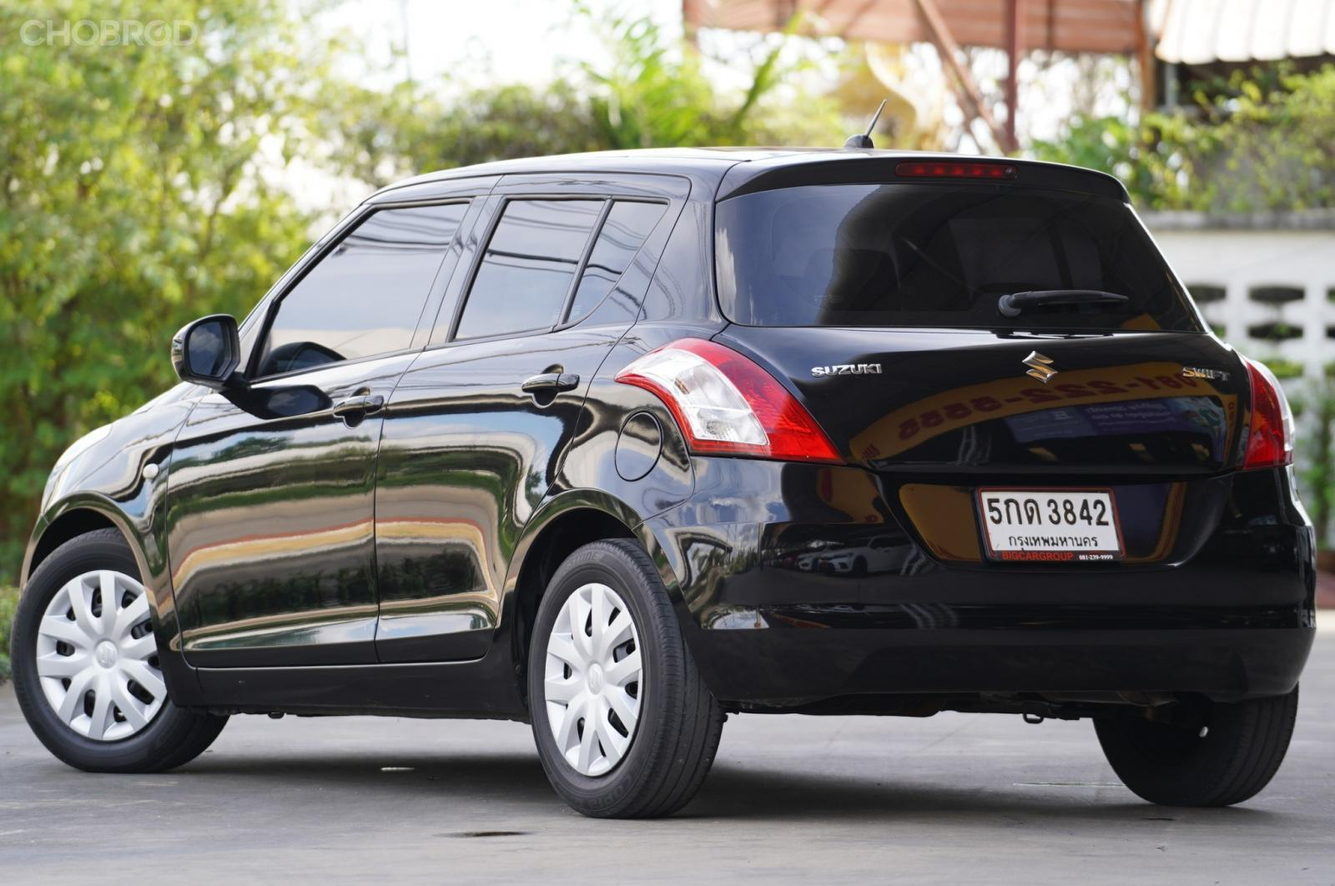license-plate: (976, 489, 1134, 559)
